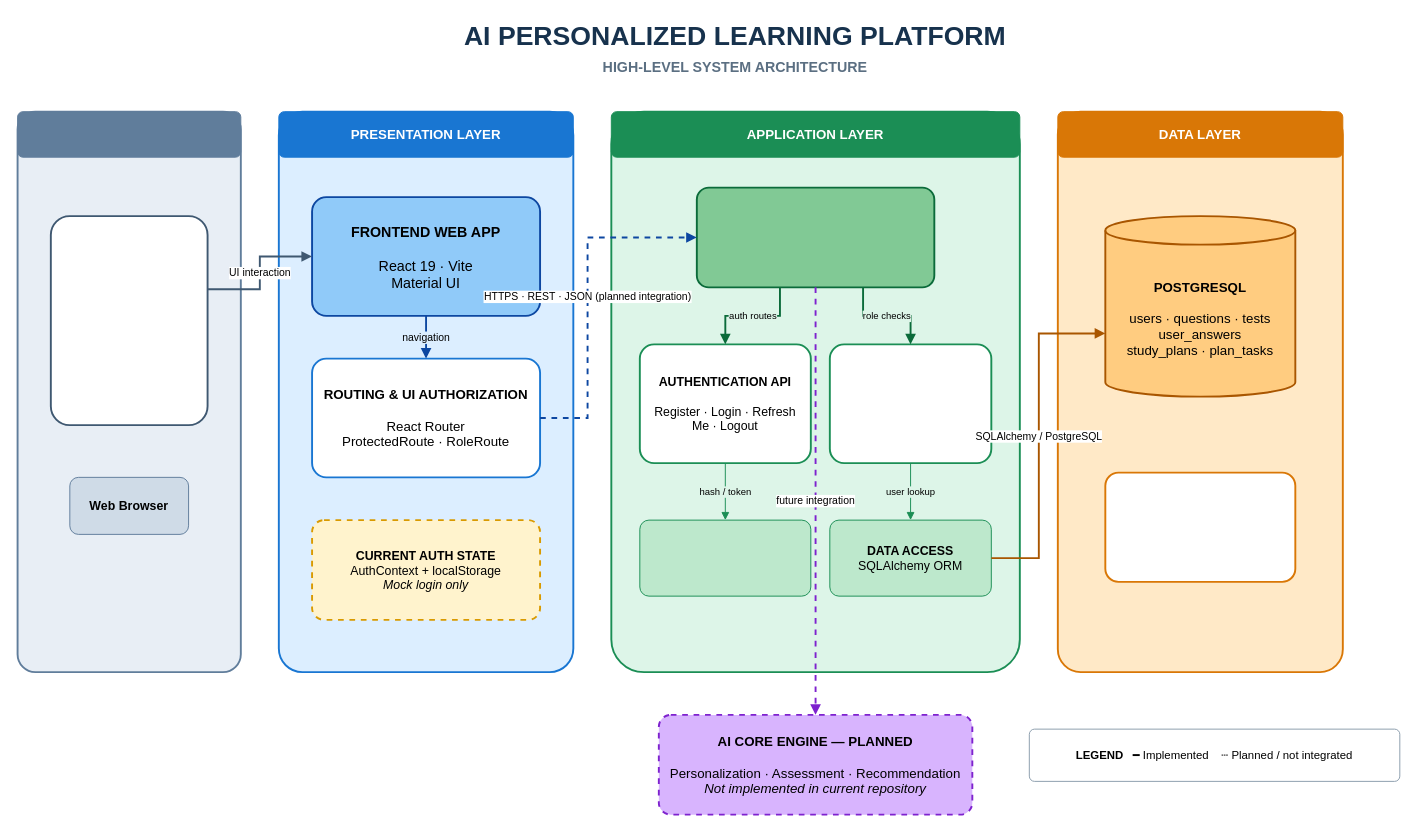
Image size: 1416x831. Some labels were removed from this diagram. Each missing label, with the centre of its shape:
BACKEND REST API FastAPI · Pydantic · /api/v1: (x=815, y=237)
CLIENT LAYER: (x=129, y=134)
JWT & RBAC Access / Refresh Token ADMIN · TEACHER STUDENT · PARENT: (x=910, y=403)
SCHEMA SOURCE OF TRUTH Database/sql/*.sql Current ORM mapping: users: (x=1200, y=526)
SECURITY Argon2 · bcrypt · JWT: (x=725, y=557)
USERS Administrator Teacher Student Parent: (x=128, y=320)
